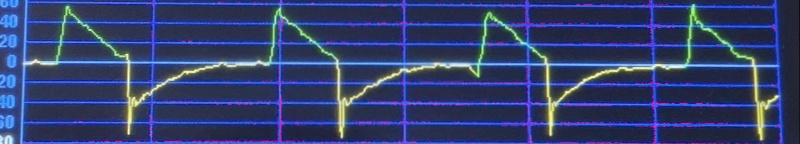normal_flow: (20, 3, 786, 144)
